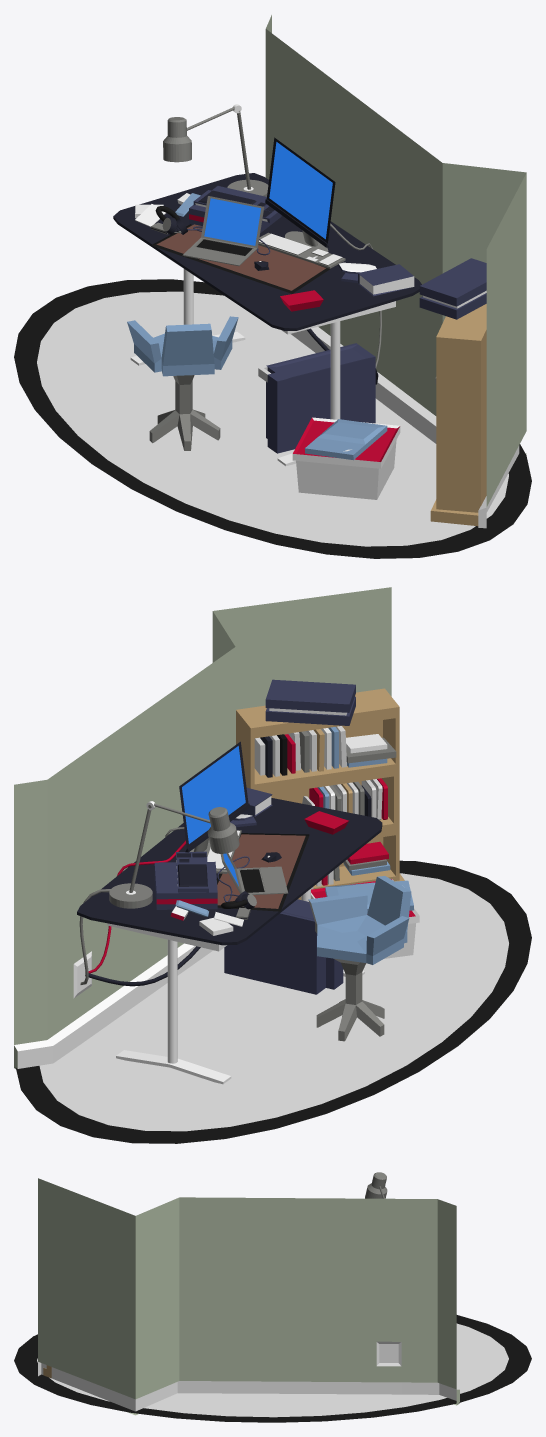
The picture shows the model from 3 angles, top to bottom: view 1: azimuth 30°, elevation 25°; view 2: azimuth 150°, elevation 25°; view 3: azimuth 270°, elevation 25°; orthographic projection. The views are drawn at different scales.
Parts seen in each view (by area): view 1: Floor, Plane.001, Plane.002, desktop, Cube.001, Cylinder.007, Storage Cube, Monitor, Laptop, mat, Intel Arc Box, Laptop Case (+7 smaller); view 2: Floor, Plane.001, desktop, Plane.002, Cylinder.007, Cube.001, Monitor, Intel Arc Box, mat, card_box, Laptop, Left Pillar (+8 smaller); view 3: Plane.001, Floor, Cylinder.004.
Part boxes in pixels (bbox=[...]): Floor: bbox=[14, 279, 531, 558]; Plane.001: bbox=[265, 15, 526, 528]; Plane.002: bbox=[430, 304, 486, 526]; desktop: bbox=[113, 173, 421, 330]; Cube.001: bbox=[258, 343, 375, 453]; Cylinder.007: bbox=[127, 316, 238, 450]; Storage Cube: bbox=[292, 417, 400, 499]; Monitor: bbox=[265, 137, 335, 247]; Laptop: bbox=[182, 196, 264, 266]; mat: bbox=[152, 224, 329, 293]; Intel Arc Box: bbox=[419, 258, 486, 319]; Laptop Case: bbox=[304, 419, 387, 460]; Floor: bbox=[15, 860, 531, 1143]; Plane.001: bbox=[14, 587, 391, 1068]; desktop: bbox=[77, 798, 382, 945]; Plane.002: bbox=[236, 688, 404, 899]; Cylinder.007: bbox=[308, 876, 411, 1041]; Cube.001: bbox=[224, 899, 343, 994]; Monitor: bbox=[179, 741, 249, 852]; Intel Arc Box: bbox=[265, 679, 355, 725]; mat: bbox=[216, 833, 309, 911]; card_box: bbox=[154, 861, 217, 909]; Laptop: bbox=[220, 853, 288, 894]; Left Pillar: bbox=[167, 939, 177, 1063]; Plane.001: bbox=[38, 1178, 459, 1415]; Floor: bbox=[14, 1315, 531, 1422]; Cylinder.004: bbox=[365, 1172, 387, 1198].
Size of the model in its own units: 2 by 1.47 by 3.47.
